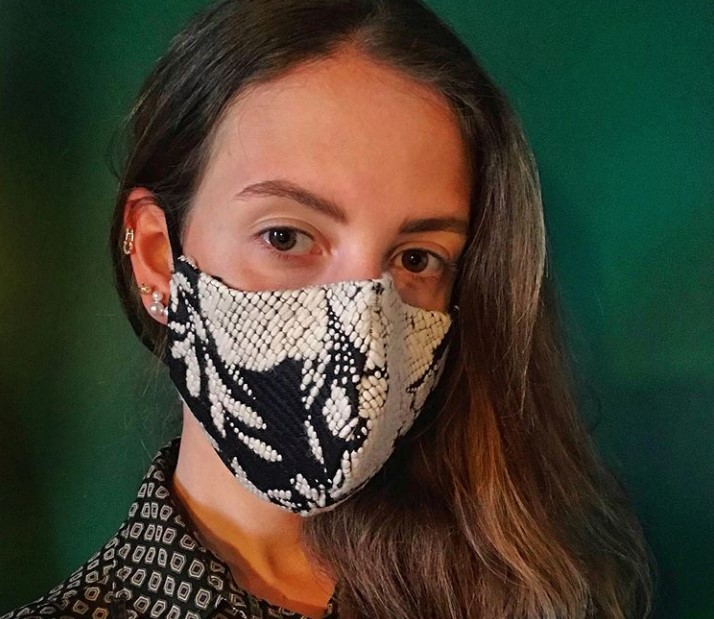face_with_mask: (119, 14, 486, 514)
